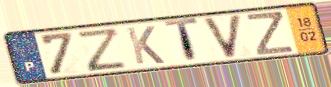7: (38, 32, 78, 77)
K: (124, 24, 167, 66)
T: (162, 16, 201, 65)
V: (201, 12, 245, 61)
Z: (75, 26, 129, 74), (244, 11, 296, 58)
